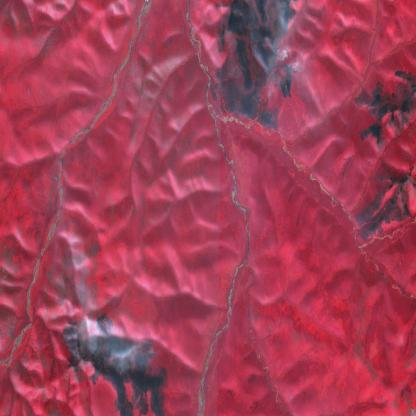fire: (208, 52, 296, 116), (132, 340, 158, 364)
